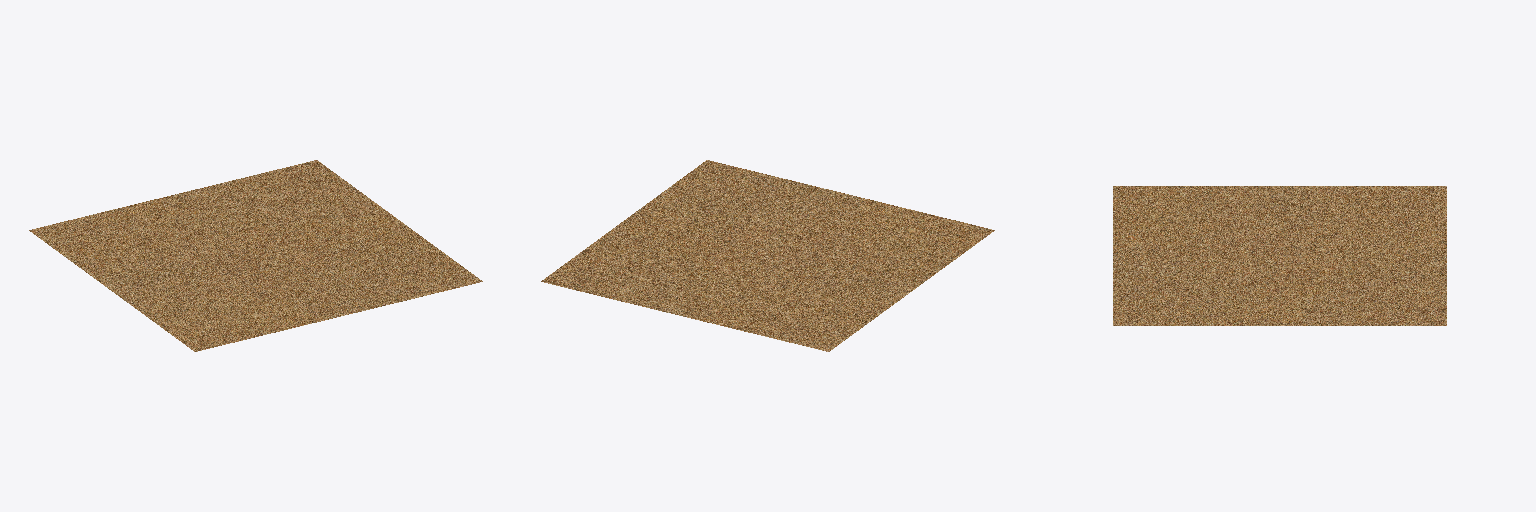
3 renders of one model, left to right at view 1: azimuth 30°, elevation 25°; view 2: azimuth 150°, elevation 25°; view 3: azimuth 270°, elevation 25°, orthographic.
Parts seen in each view (by area): view 1: 平面; view 2: 平面; view 3: 平面.
Part boxes in pixels (left/top/right/bottom): 平面: left=29, top=160, right=482, bottom=351; 平面: left=541, top=160, right=994, bottom=351; 平面: left=1113, top=186, right=1446, bottom=325.
Bounding box in the file's own units: 2 × 0 × 2.
1 materials, 1 textured.